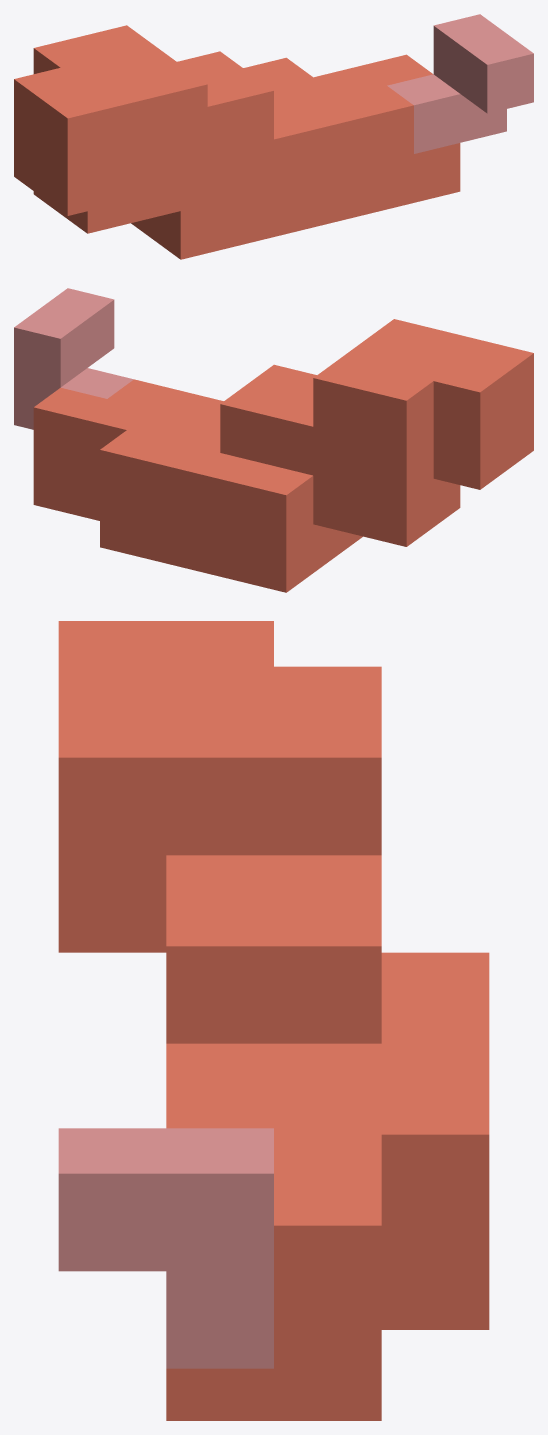
Rendered from octopus__arm_3.glb.
3 renders of one model, top to bottom at view 1: azimuth 30°, elevation 25°; view 2: azimuth 150°, elevation 25°; view 3: azimuth 270°, elevation 25°, orthographic. The views are drawn at different scales.
Visible parts, largest first — view 1: octopus__arm_3; view 2: octopus__arm_3; view 3: octopus__arm_3.
Part boxes in pixels (x1,y1,x2,y2): octopus__arm_3: (14,14,533,259); octopus__arm_3: (14,288,533,592); octopus__arm_3: (58,621,489,1420).
Bounding box in the file's own units: 1 × 0.4 × 0.4.
Materials: 1 (1 with a texture image).
